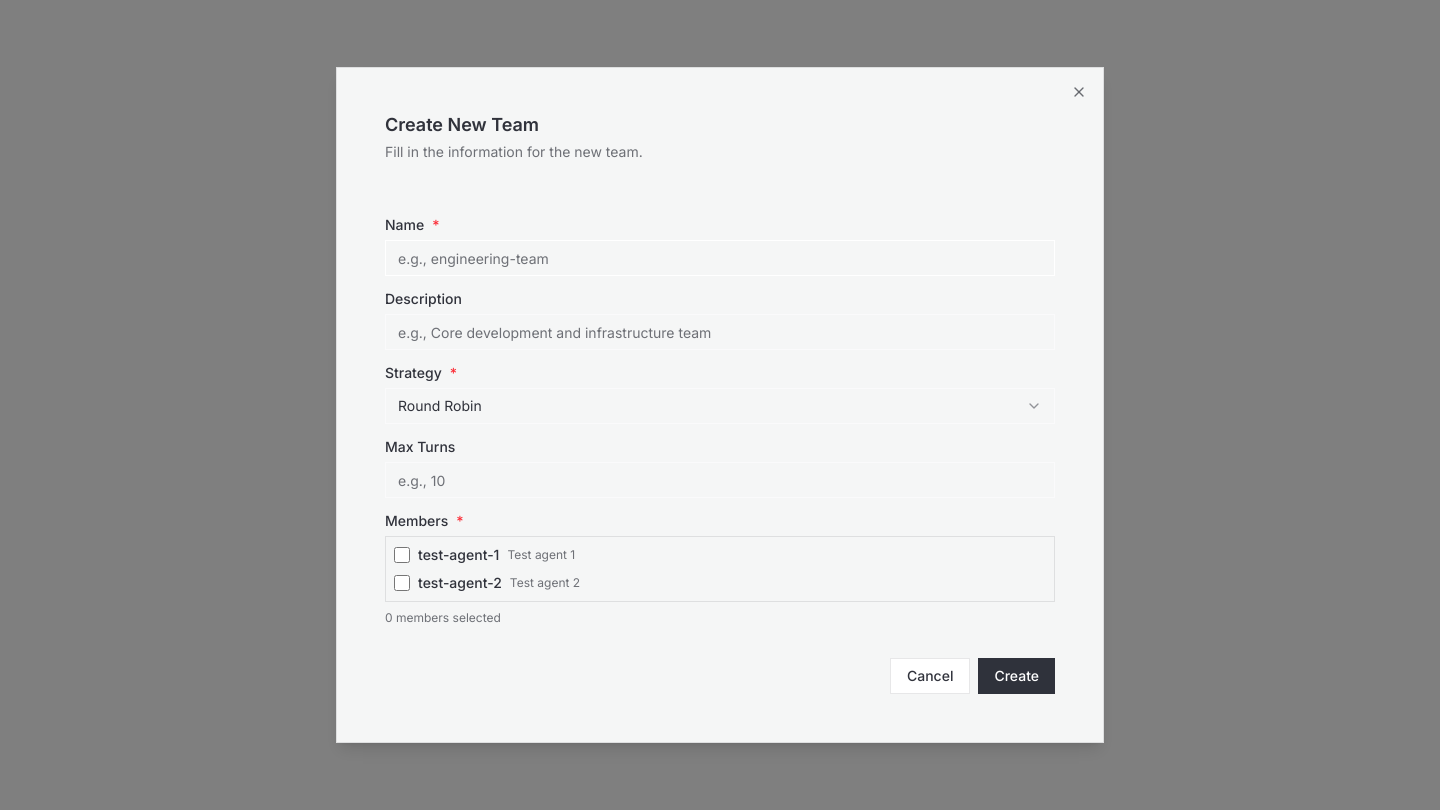
Test: TeamEditor › name validation › should show error for name with uppercase letters
This screenshot has width=1440, height=810.
Type "invalidTeam" into the field with placeholder "e.g., engineering-team" at x=720, y=258, box top-left (385, 240), bottom-right (1055, 276)
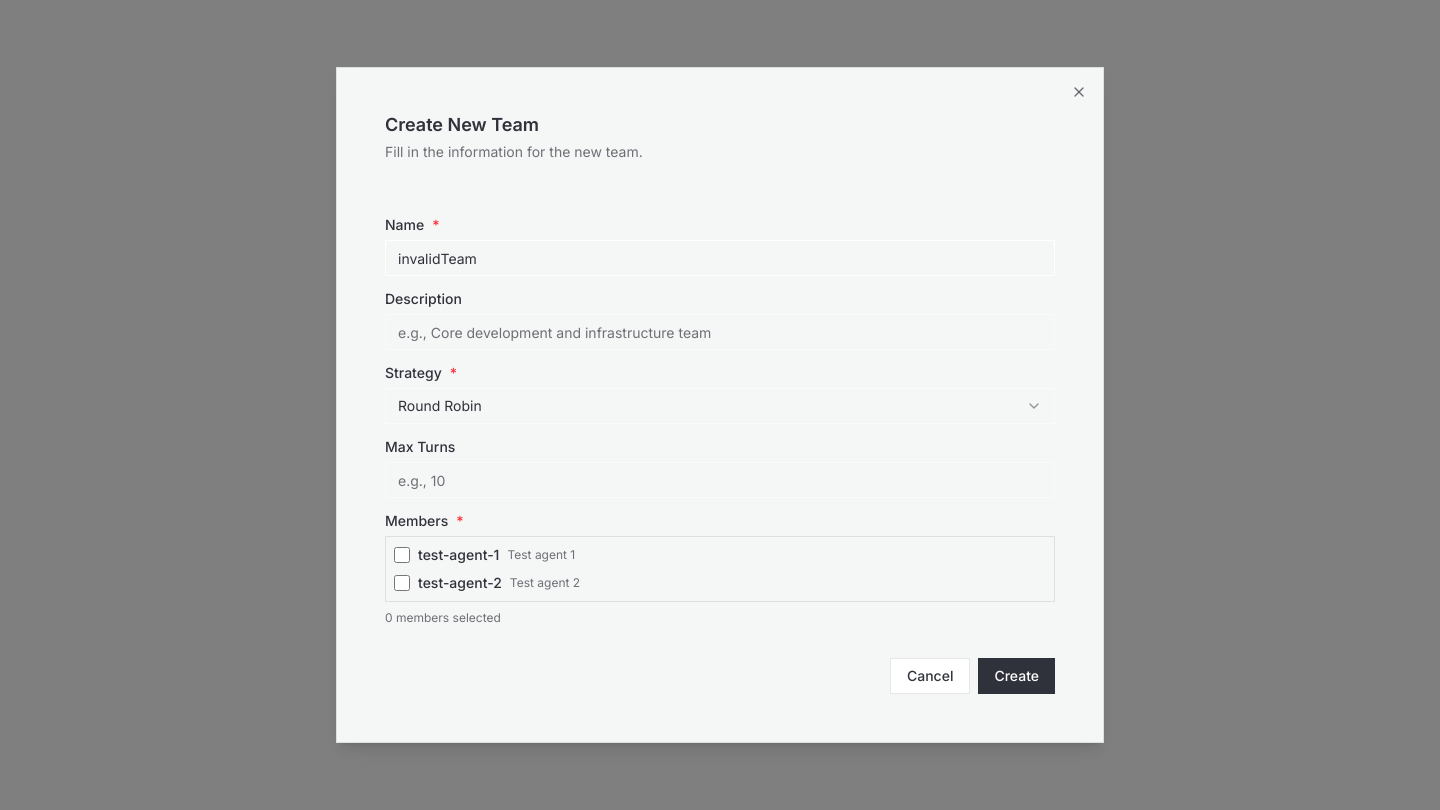
Click the button "Create" at x=1017, y=676, box top-left (978, 658), bottom-right (1055, 694)
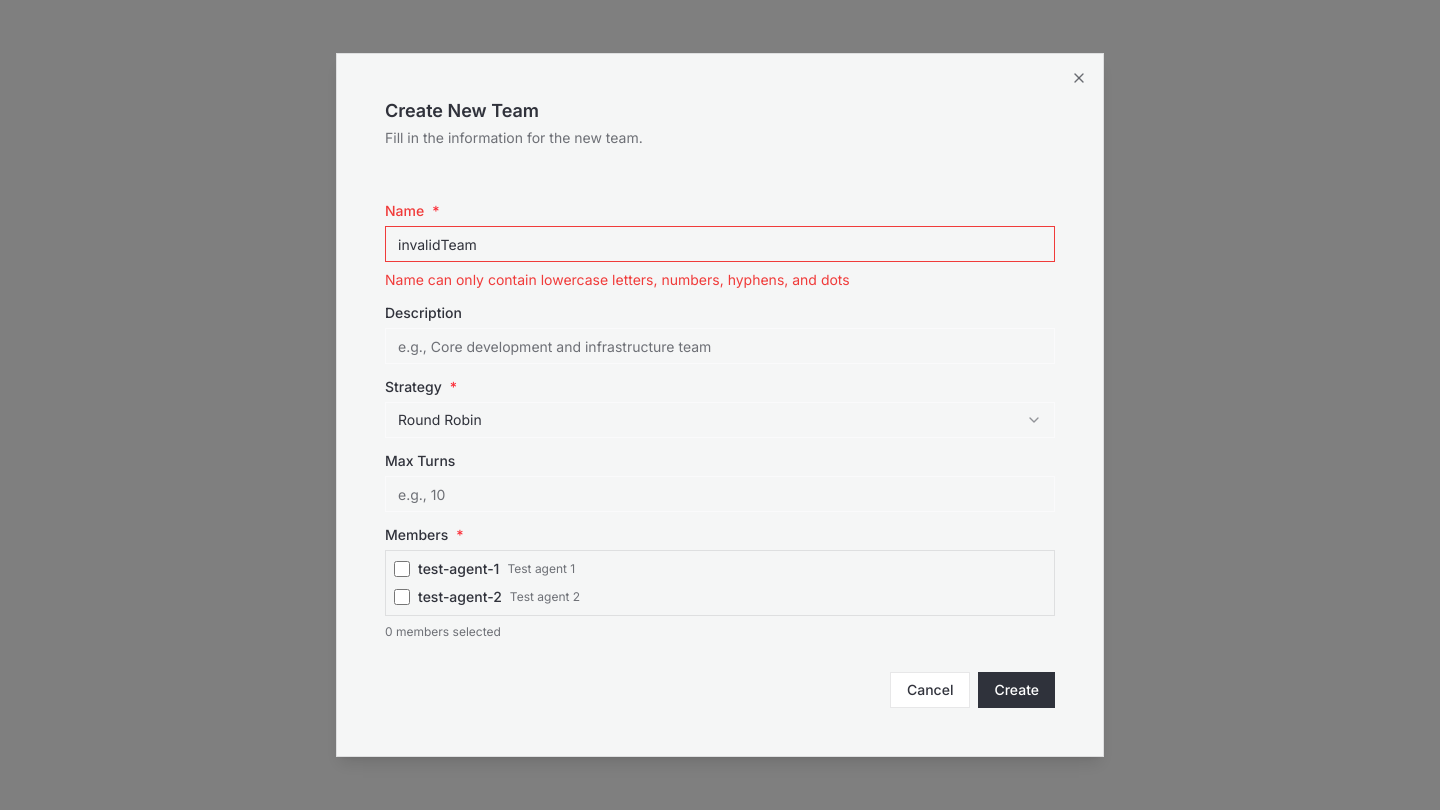
Expected: the text "Name can only contain lowercase letters, numbers, hyphens, and dots" is shown, top-left (385, 271), bottom-right (850, 288)
